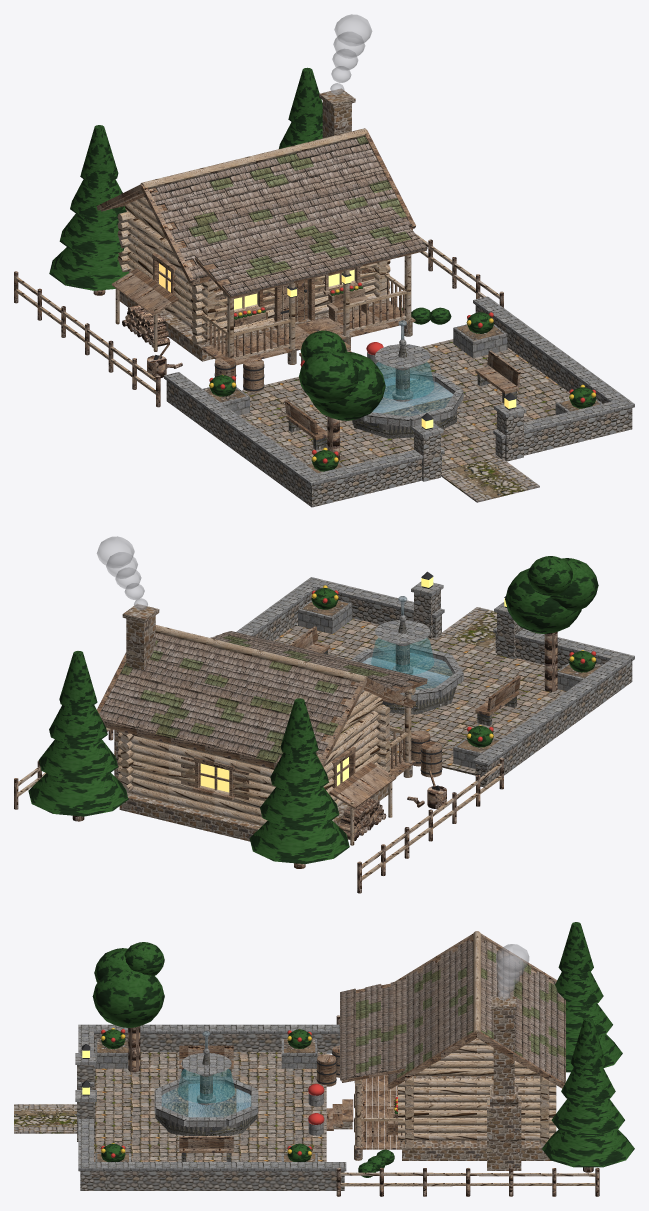
File: cabana_patio_juego_draco.glb
3 renders of one model, top to bottom at view 1: azimuth 30°, elevation 25°; view 2: azimuth 150°, elevation 25°; view 3: azimuth 270°, elevation 25°, orthographic. The views are drawn at different scales.
Parts seen in each view (by area): view 1: CB_Tablilla_-1_0_0, CB_Hoja_J-1_0, CB_Tablero_-1, CB_Tronco_F-1_0_0, CP_Empedrado, CP_Muro_I_Albardilla, CP_Muro_I, CB_Tablilla_-1_0_2, CB_Lena_0_0, CB_Zocalo, CP_Fuente_Pileta, CP_Entrada (+4 smaller); view 2: CB_Hoja_J-1_0, CB_Tablilla_-1_0_0, CB_Tronco_F-1_0_0, CP_Muro_I_Albardilla, CP_Empedrado, CB_Tablero_-1, CP_Muro_I, CB_Zocalo, CB_Tablilla_-1_0_2, CB_Lena_0_0, CP_Fuente_Pileta, CB_Humo_0 (+5 smaller); view 3: CB_Hoja_J-1_0, CB_Tablilla_-1_0_0, CP_Empedrado, CB_Tronco_F-1_0_0, CP_Muro_I_Albardilla, CP_Muro_I, CB_Tablero_-1, CB_Zocalo, CB_Tablilla_-1_0_2, CP_Fuente_Pileta, CP_Fuente_Agua, CP_Entrada (+5 smaller).
Boxes of the visible parts, x1=… form: CB_Tablilla_-1_0_0: x1=151, y1=138, x2=427, y2=296; CB_Hoja_J-1_0: x1=49, y1=67, x2=596, y2=471; CB_Tablero_-1: x1=96, y1=130, x2=520, y2=440; CB_Tronco_F-1_0_0: x1=16, y1=128, x2=499, y2=394; CP_Empedrado: x1=239, y1=339, x2=570, y2=470; CP_Muro_I_Albardilla: x1=164, y1=296, x2=634, y2=485; CP_Muro_I: x1=166, y1=305, x2=632, y2=507; CB_Tablilla_-1_0_2: x1=188, y1=136, x2=410, y2=278; CB_Lena_0_0: x1=14, y1=239, x2=503, y2=462; CB_Zocalo: x1=119, y1=88, x2=412, y2=364; CP_Fuente_Pileta: x1=288, y1=346, x2=516, y2=450; CP_Entrada: x1=441, y1=457, x2=539, y2=502; CB_Hoja_J-1_0: x1=28, y1=556, x2=598, y2=864; CB_Tablilla_-1_0_0: x1=99, y1=631, x2=427, y2=763; CB_Tronco_F-1_0_0: x1=18, y1=625, x2=501, y2=880; CP_Muro_I_Albardilla: x1=236, y1=577, x2=634, y2=768; CP_Empedrado: x1=273, y1=618, x2=566, y2=775; CB_Tablero_-1: x1=97, y1=626, x2=520, y2=808; CP_Muro_I: x1=254, y1=590, x2=632, y2=787; CB_Zocalo: x1=114, y1=604, x2=412, y2=841; CB_Tablilla_-1_0_2: x1=120, y1=635, x2=388, y2=762; CB_Lena_0_0: x1=14, y1=632, x2=557, y2=893; CP_Fuente_Pileta: x1=323, y1=621, x2=516, y2=725; CB_Humo_0: x1=97, y1=536, x2=147, y2=610; CB_Hoja_J-1_0: x1=92, y1=922, x2=634, y2=1177; CB_Tablilla_-1_0_0: x1=340, y1=940, x2=565, y2=1083; CP_Empedrado: x1=94, y1=1052, x2=326, y2=1161; CB_Tronco_F-1_0_0: x1=340, y1=931, x2=595, y2=1186; CP_Muro_I_Albardilla: x1=75, y1=1024, x2=346, y2=1171; CP_Muro_I: x1=77, y1=1034, x2=344, y2=1190; CB_Tablero_-1: x1=179, y1=933, x2=564, y2=1152; CB_Zocalo: x1=333, y1=996, x2=551, y2=1170; CB_Tablilla_-1_0_2: x1=356, y1=949, x2=565, y2=1078; CP_Fuente_Pileta: x1=155, y1=1054, x2=257, y2=1161; CP_Fuente_Agua: x1=161, y1=1083, x2=251, y2=1117; CP_Entrada: x1=14, y1=1104, x2=76, y2=1133.
Bounding box in the file's own units: 12.14 × 8.35 × 20.65.
23 materials, 17 textured.
